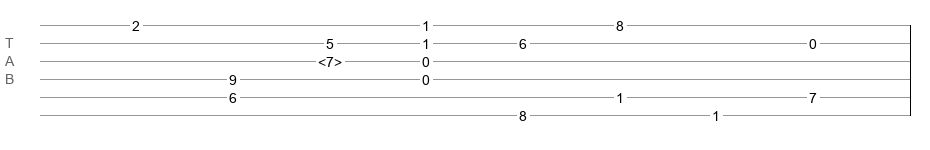0: (422, 72, 430, 82), (422, 54, 430, 64), (809, 36, 817, 46)
1: (422, 36, 430, 46), (422, 18, 430, 28), (616, 90, 624, 100), (712, 108, 720, 118)
2: (132, 18, 140, 28)
5: (326, 36, 334, 46)
6: (229, 90, 237, 100), (519, 36, 527, 46)
7: (809, 90, 817, 100)
8: (519, 108, 527, 118), (616, 18, 624, 28)
9: (229, 72, 237, 82)
harmonic: (318, 54, 342, 64)
